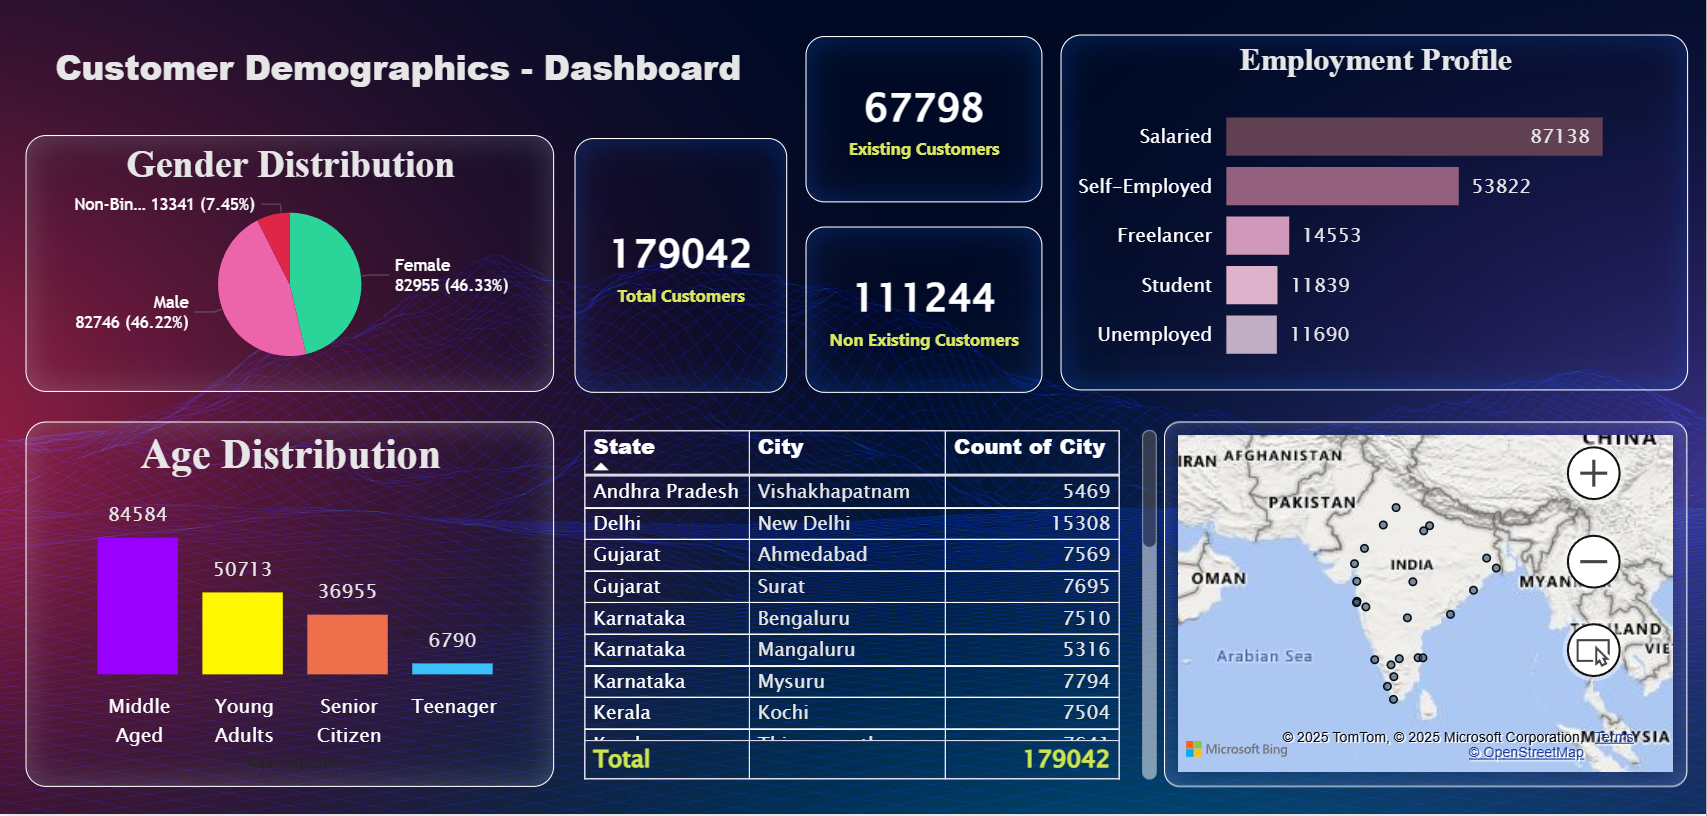

The page's visual inventory and layout, read from the dashboard file:
{"tool":"powerbi","page":{"name":"Customers","canvas":[1080,515],"ordinal":0},"visuals":[{"type":"pieChart","title":"Gender Distribution ","fields":{"Category":["credit_data.Gender"],"Y":["CountNonNull(credit_data.Gender)"]},"box":[16.4,85.1,334.5,162.4],"z":0},{"type":"columnChart","title":"Age Distribution","fields":{"Category":["credit_data.Age Category"],"Y":["CountNonNull(credit_data.Age Category)"]},"box":[16.4,266.9,334.5,231.1],"z":1000},{"type":"map","fields":{"Category":["credit_data.City"]},"box":[736.7,266.9,331.6,231.1],"z":2000},{"type":"tableEx","fields":{"Values":["credit_data.State","credit_data.City1","credit_data.City"]},"box":[363.6,266.7,373.4,231.6],"z":3000},{"type":"clusteredBarChart","title":"Employment Profile","fields":{"Category":["credit_data.Employment Profile"],"Y":["CountNonNull(credit_data.Employment Profile)"]},"box":[671.1,21.8,397.6,225.5],"z":4000},{"type":"textbox","box":[16.3,21.8,493.5,50.1],"z":5000},{"type":"card","fields":{"Values":["credit_data.Total Customers"]},"box":[363.6,87,134.8,161.4],"z":6000},{"type":"card","fields":{"Values":["Sum(credit_data.Existing Cust)"]},"box":[509.6,22.5,150.2,105.3],"z":7000},{"type":"card","fields":{"Values":["Sum(credit_data.Non Existing Cust)"]},"box":[509.6,143.2,150.2,105.3],"z":8000}]}

Visuals, with their boxes in screenshot pixels (x1, y1, x2, y2), scaled from the page's 1080x515 canvas onto the 1707x816 screenshot:
"Gender Distribution " pieChart: detection(26, 135, 555, 392)
"Age Distribution" columnChart: detection(26, 423, 555, 789)
map - credit_data.City: detection(1164, 423, 1689, 789)
tableEx - credit_data.State x credit_data.City1: detection(575, 423, 1165, 790)
"Employment Profile" clusteredBarChart: detection(1061, 35, 1689, 392)
textbox: detection(26, 35, 806, 114)
card - credit_data.Total Customers: detection(575, 138, 788, 394)
card - Sum(credit_data.Existing Cust): detection(805, 36, 1043, 202)
card - Sum(credit_data.Non Existing Cust): detection(805, 227, 1043, 394)
